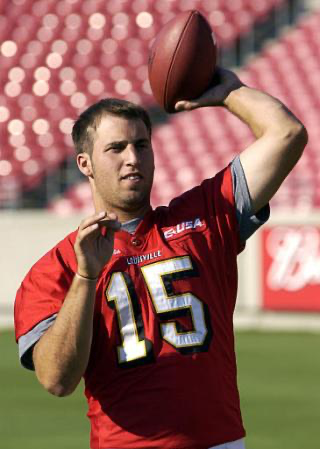Face: (88, 130, 160, 219)
